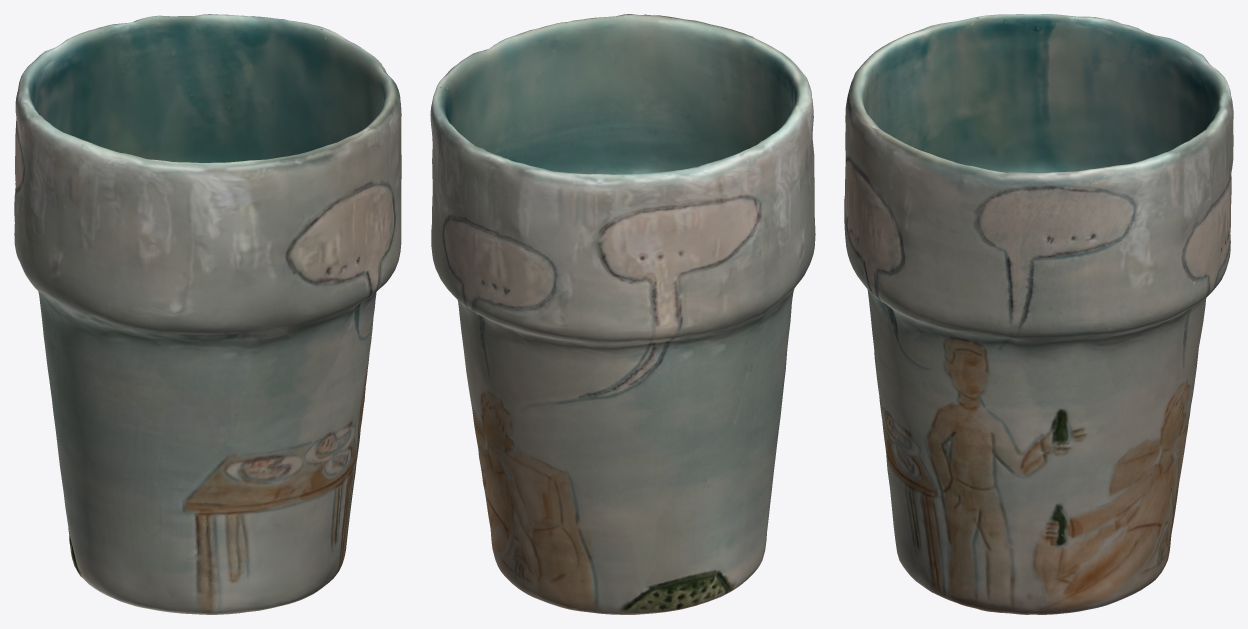
The picture shows the model from 3 angles, left to right: view 1: azimuth 30°, elevation 25°; view 2: azimuth 150°, elevation 25°; view 3: azimuth 270°, elevation 25°; orthographic projection.
Bounding box in the file's own units: 0.0724 × 0.099 × 0.0734.
Materials: 1 (1 with a texture image).
